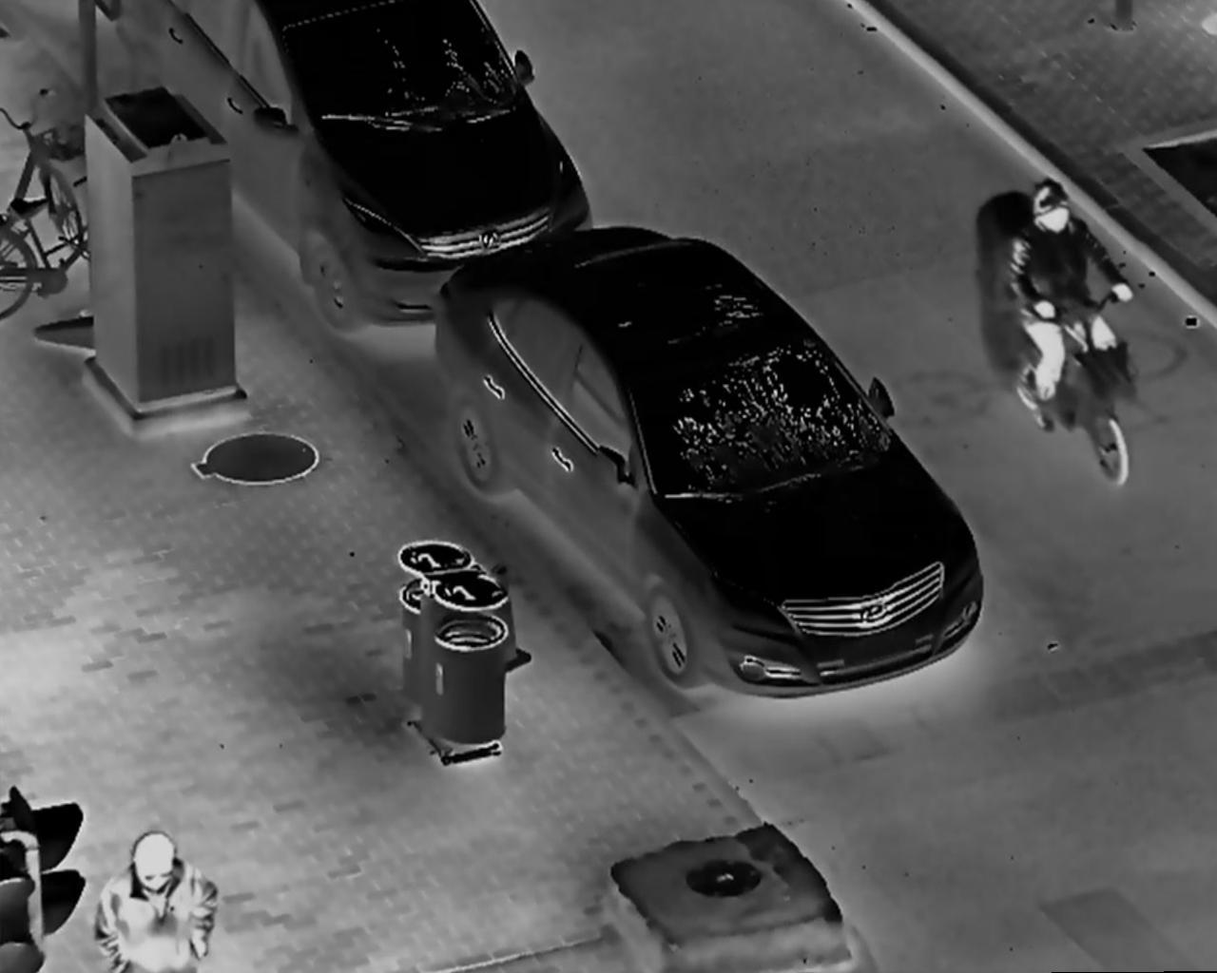person: (1011, 188, 1143, 420), (90, 830, 224, 973)
